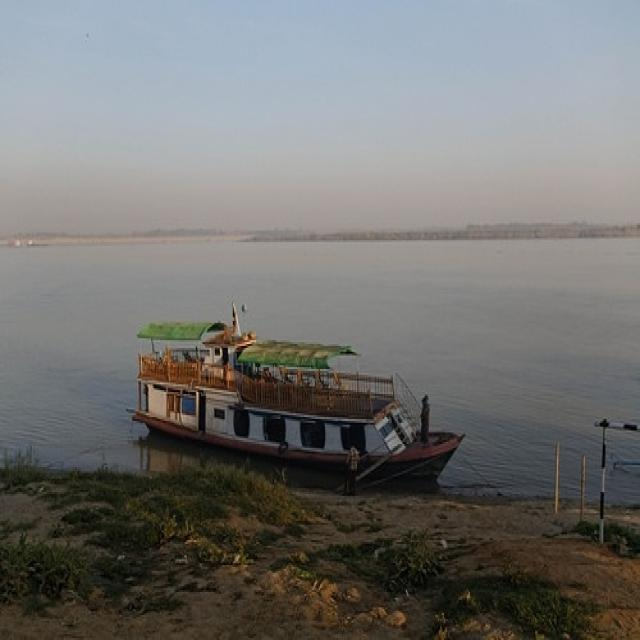boat: (109, 323, 482, 468)
